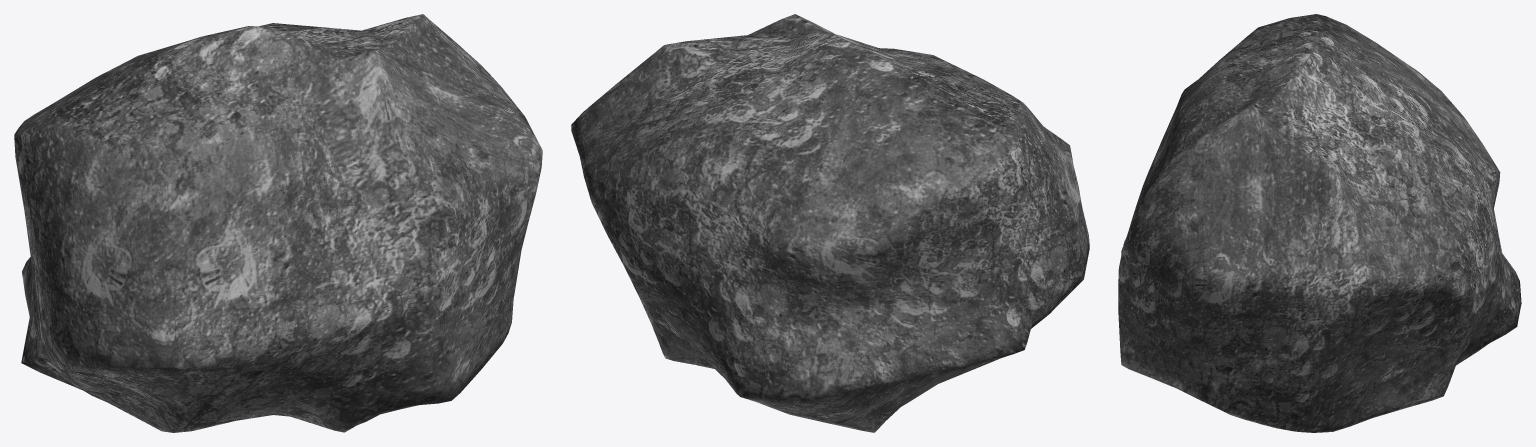
File: Asteroid_1.glb
The picture shows the model from 3 angles, left to right: view 1: azimuth 30°, elevation 25°; view 2: azimuth 150°, elevation 25°; view 3: azimuth 270°, elevation 25°; orthographic projection. The views are drawn at different scales.
Parts seen in each view (by area): view 1: Aster_Small_1_; view 2: Aster_Small_1_; view 3: Aster_Small_1_.
Boxes of the visible parts, x1,y1,x2,y2 form: Aster_Small_1_: (14, 14, 542, 432); Aster_Small_1_: (571, 14, 1089, 432); Aster_Small_1_: (1118, 14, 1521, 432).
Bounding box in the file's own units: 1.68 × 1.24 × 1.34.
1 material, 1 textured.
